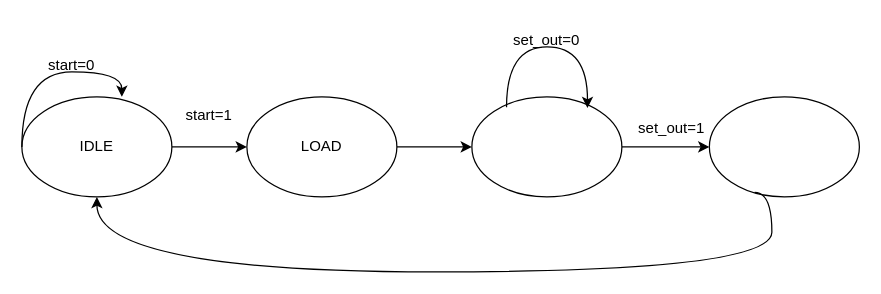
The diagram is 881 pixels wide and 294 high, and some of its shapes have lost their labels. Each missing label, with the box of its shape:
OUT: (708, 96, 859, 197)
SHIFT: (471, 96, 622, 197)
